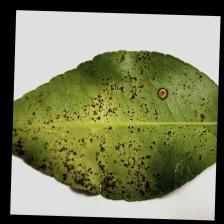canker: (43, 85, 147, 193)
